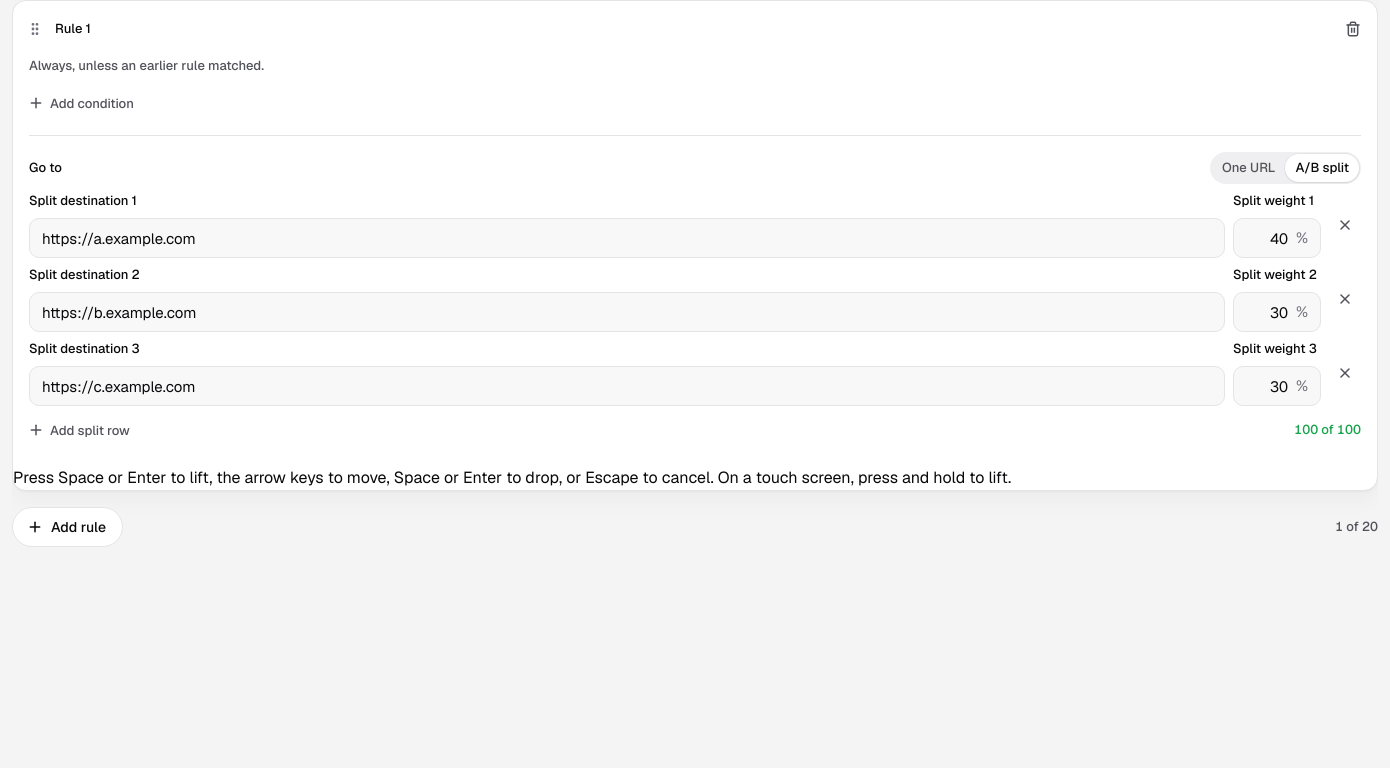
Test: RulesEditor › focuses a neighbour after removing a split row
Click the button named "Remove split row 1": (1345, 225) [1329,209,1361,241]
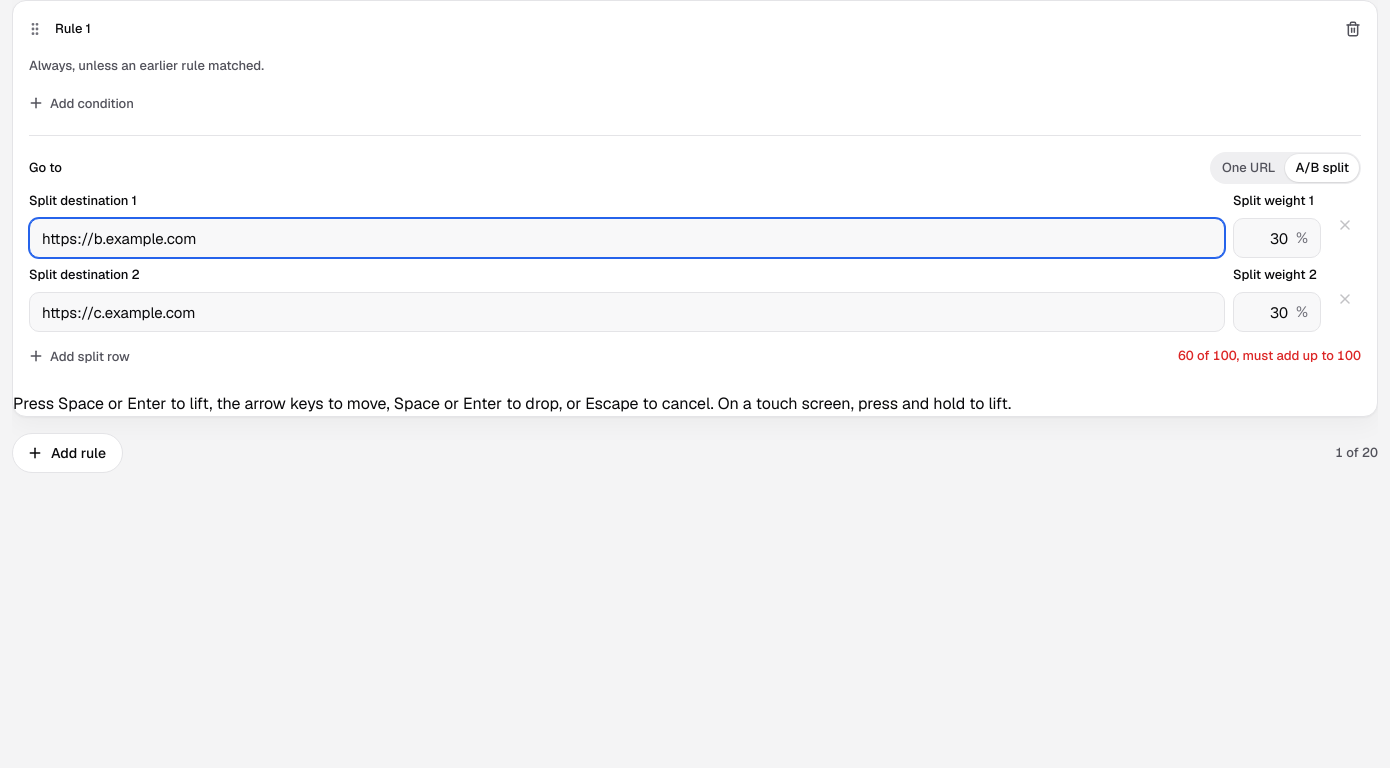
Result: the field labelled "Split destination 1" holds "https://b.example.com" at [42,219,1212,257]
